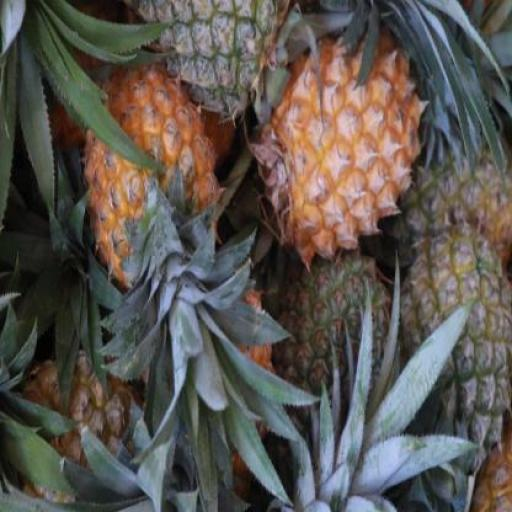------------------------------: (397, 224, 509, 465)
Pineapple - v8 v1: (258, 35, 424, 264), (83, 70, 222, 289)
